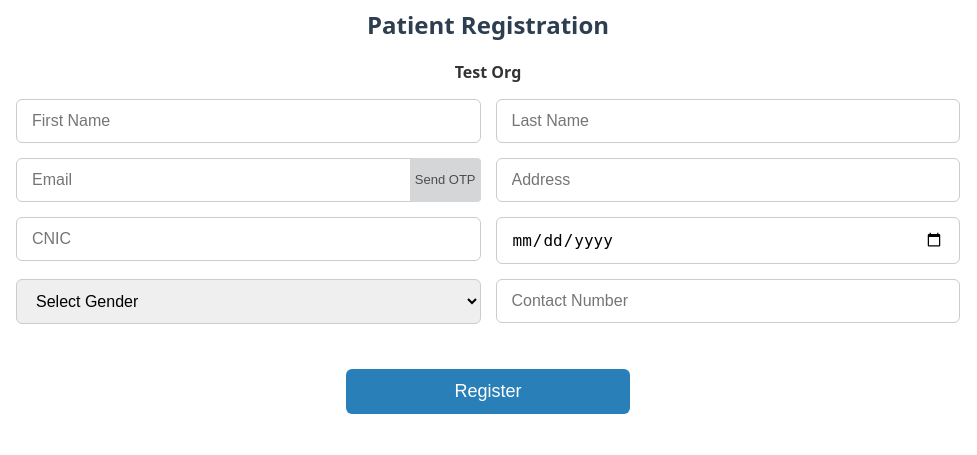
Test: PatientRegister Component › validates name fields to allow only letters
Type "John123" into the field with placeholder "First Name".
click(248, 121); type("John123")  # box top-left (16, 99), bottom-right (480, 143)
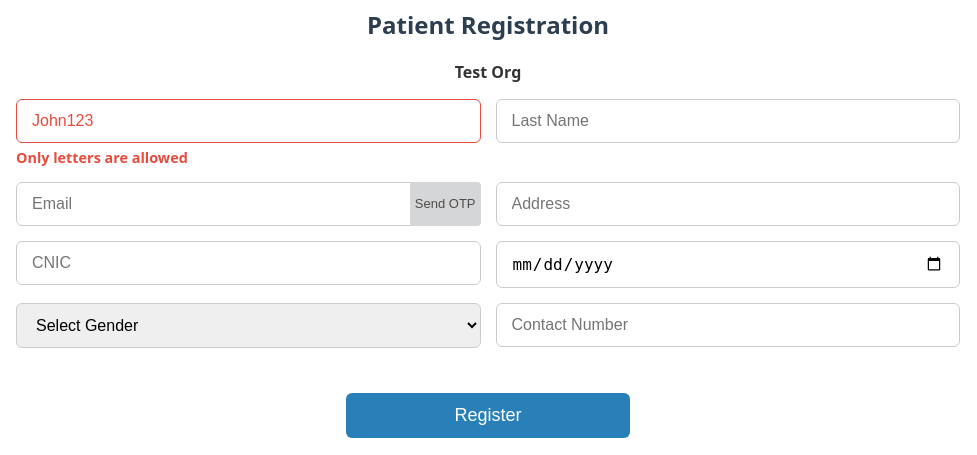
Expected: the text "Only letters are allowed" is shown, top-left (16, 148), bottom-right (188, 167)
Replace the text in the field with placeholder "First Name" with "John" at x=248, y=121, box top-left (16, 99), bottom-right (480, 143)
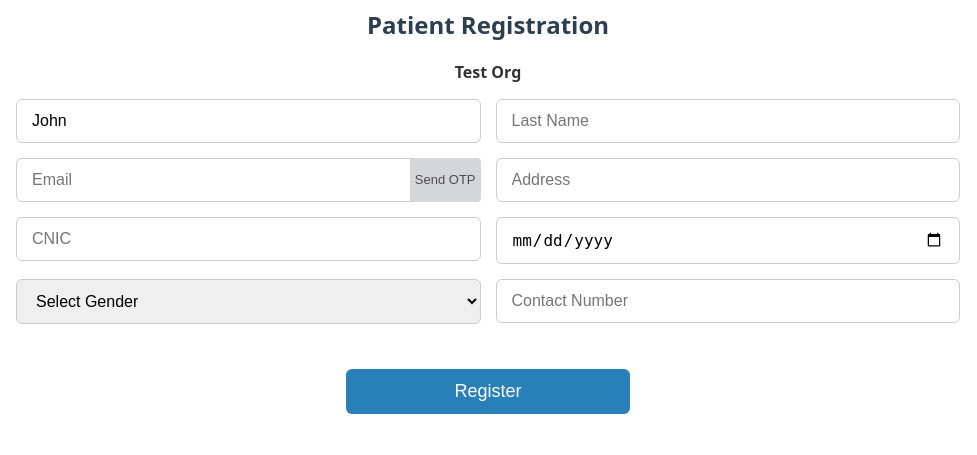
Expected: the text "Only letters are allowed" is gone
